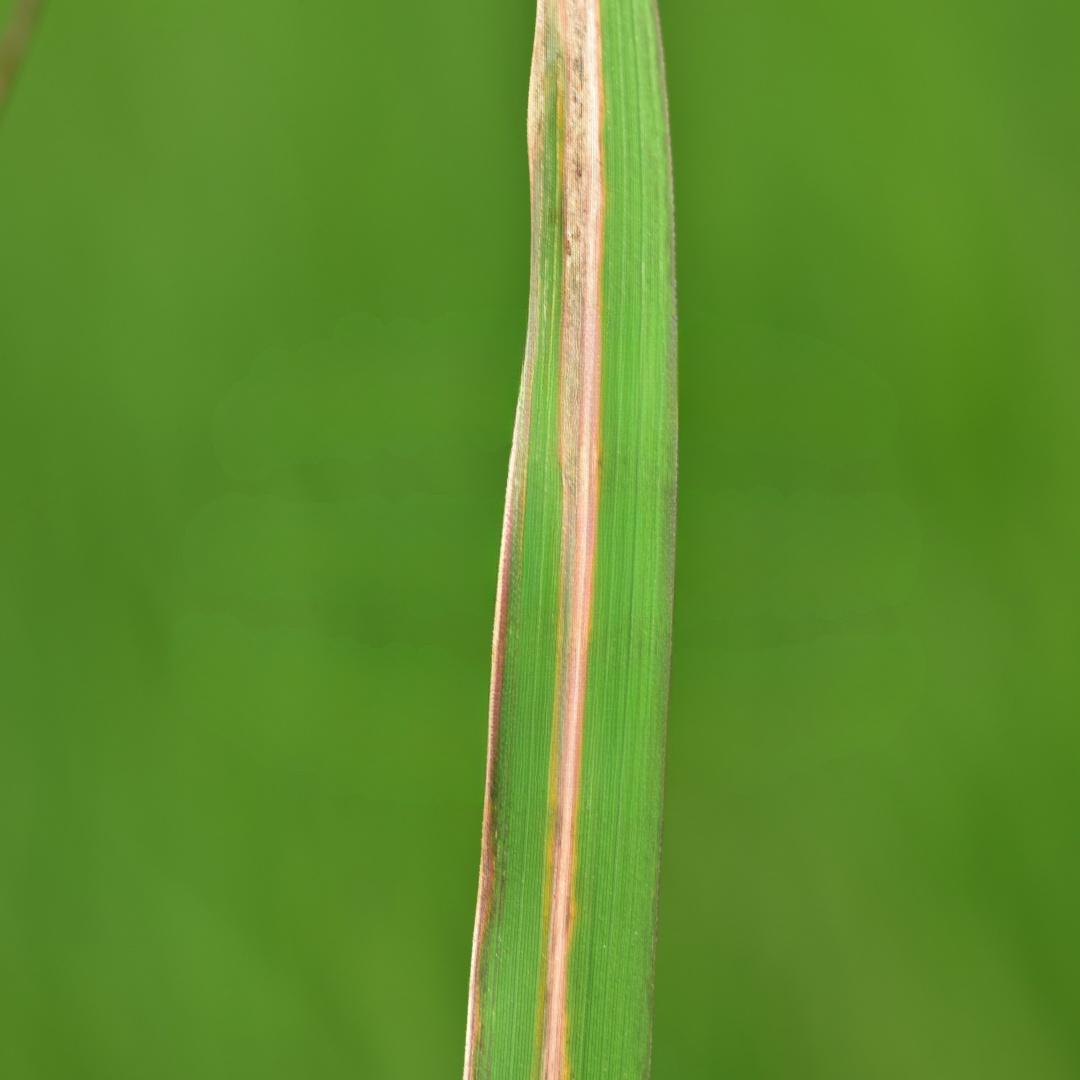BLB: (464, 0, 606, 1079)
LEAF: (463, 0, 677, 1079)
